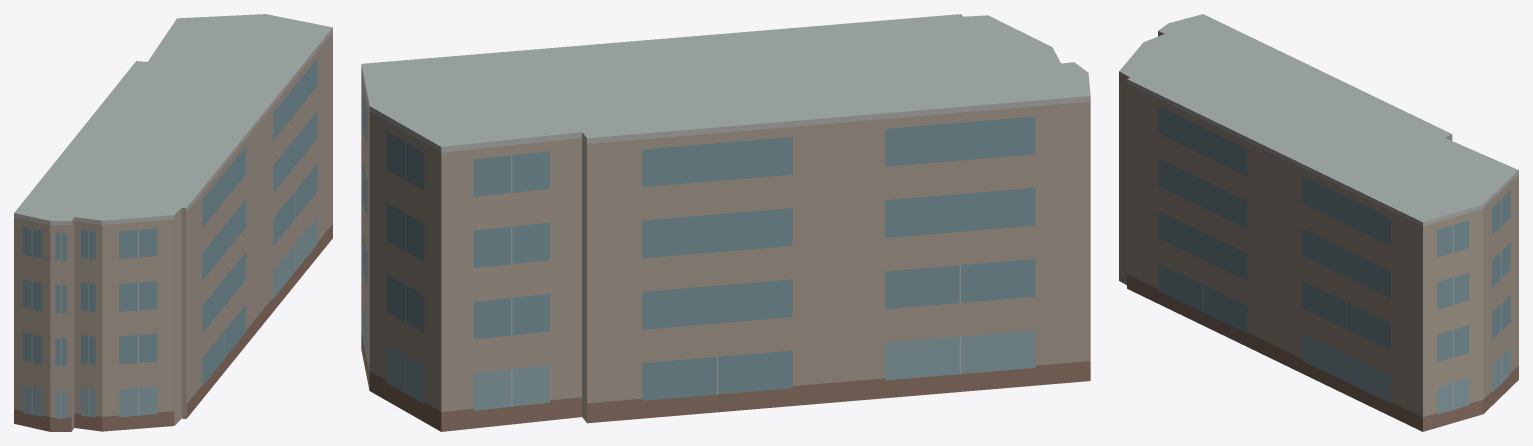
The model's file is survey-upis-32843196.glb.
3 views of the same model, side by side, from view 1: azimuth 30°, elevation 25°; view 2: azimuth 150°, elevation 25°; view 3: azimuth 270°, elevation 25° (orthographic). The views are drawn at different scales.
Visible parts, largest first — view 1: survey-upis-32843196.tmp; view 2: survey-upis-32843196.tmp; view 3: survey-upis-32843196.tmp.
Boxes of the visible parts, x1=… form: survey-upis-32843196.tmp: x1=14, y1=14, x2=332, y2=431; survey-upis-32843196.tmp: x1=361, y1=14, x2=1090, y2=431; survey-upis-32843196.tmp: x1=1119, y1=14, x2=1518, y2=431.
Bounding box in the file's own units: 26.01 × 12.2 × 21.1.
